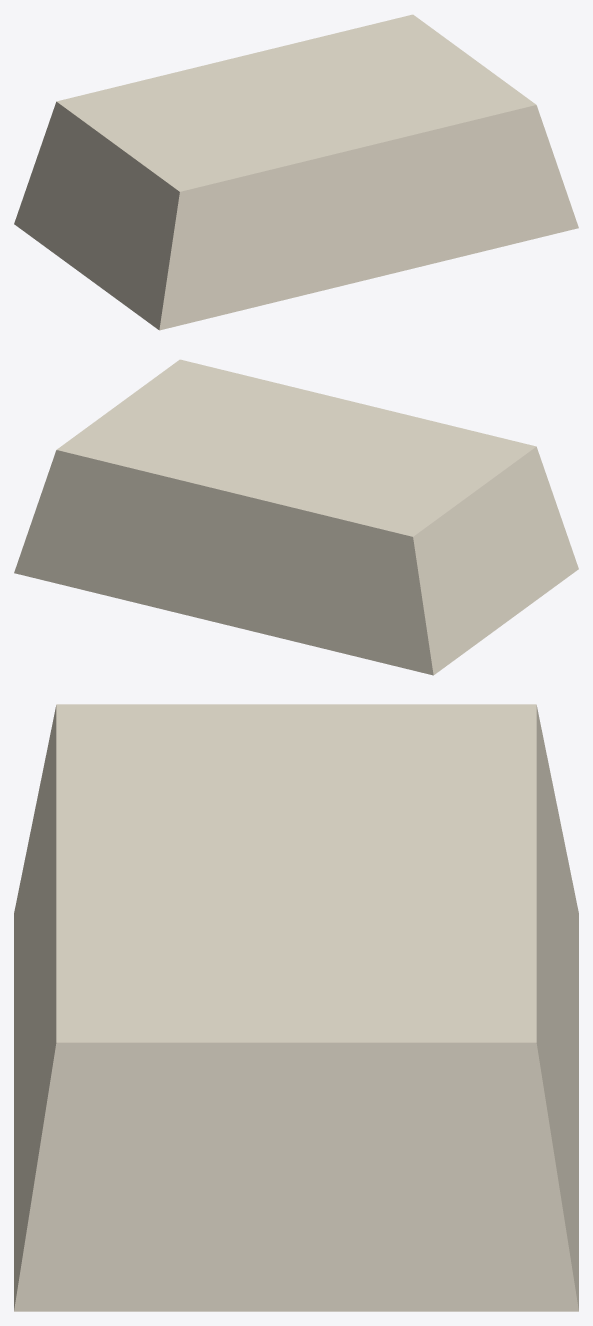
File: GH_Pillow_01.glb
3 views of the same model, one above another, from view 1: azimuth 30°, elevation 25°; view 2: azimuth 150°, elevation 25°; view 3: azimuth 270°, elevation 25° (orthographic). The views are drawn at different scales.
Parts seen in each view (by area): view 1: GH_Pillow_01; view 2: GH_Pillow_01; view 3: GH_Pillow_01.
Boxes of the visible parts, x1,y1,x2,y2 form: GH_Pillow_01: (14,14,578,330); GH_Pillow_01: (14,359,578,675); GH_Pillow_01: (14,704,578,1311).
Bounding box in the file's own units: 0.5 × 0.14 × 0.3.
1 material, 1 textured.
